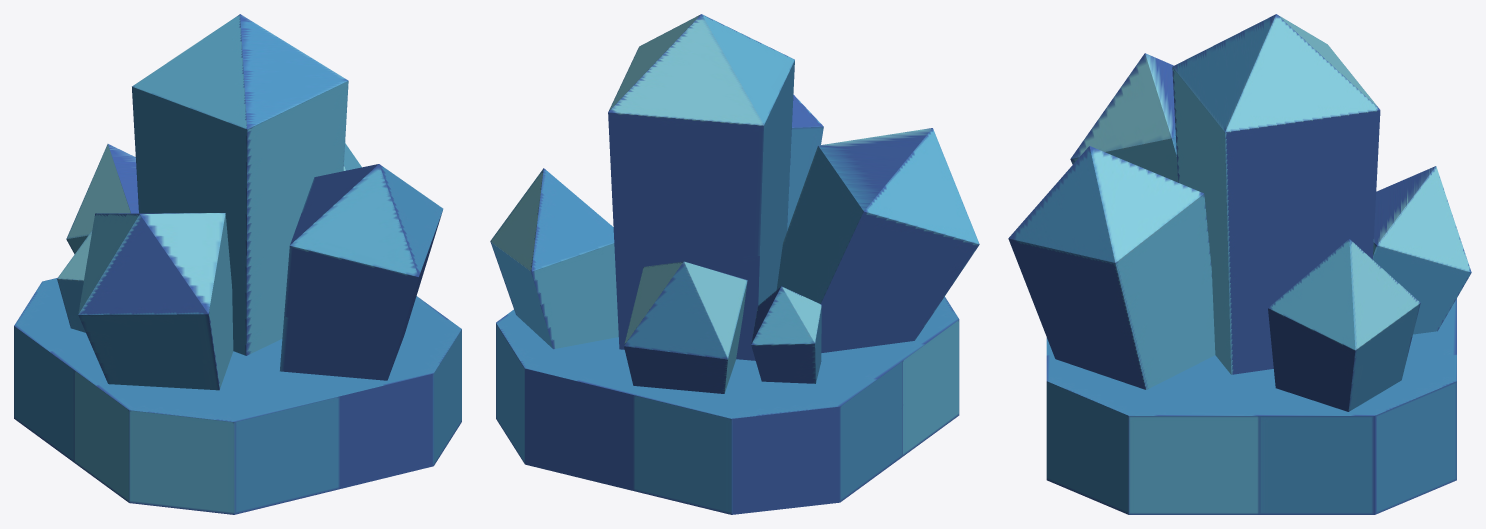
The model's file is Kyder.FBX.
3 renders of one model, left to right at view 1: azimuth 30°, elevation 25°; view 2: azimuth 150°, elevation 25°; view 3: azimuth 270°, elevation 25°, orthographic. The views are drawn at different scales.
Visible parts, largest first — view 1: Box007; view 2: Box007; view 3: Box007.
Part boxes in pixels (x1,y1,x2,y2): Box007: (14,14,461,514); Box007: (490,14,979,514); Box007: (1008,14,1471,514).
Bounding box in the file's own units: 86.28 × 85 × 84.71.
